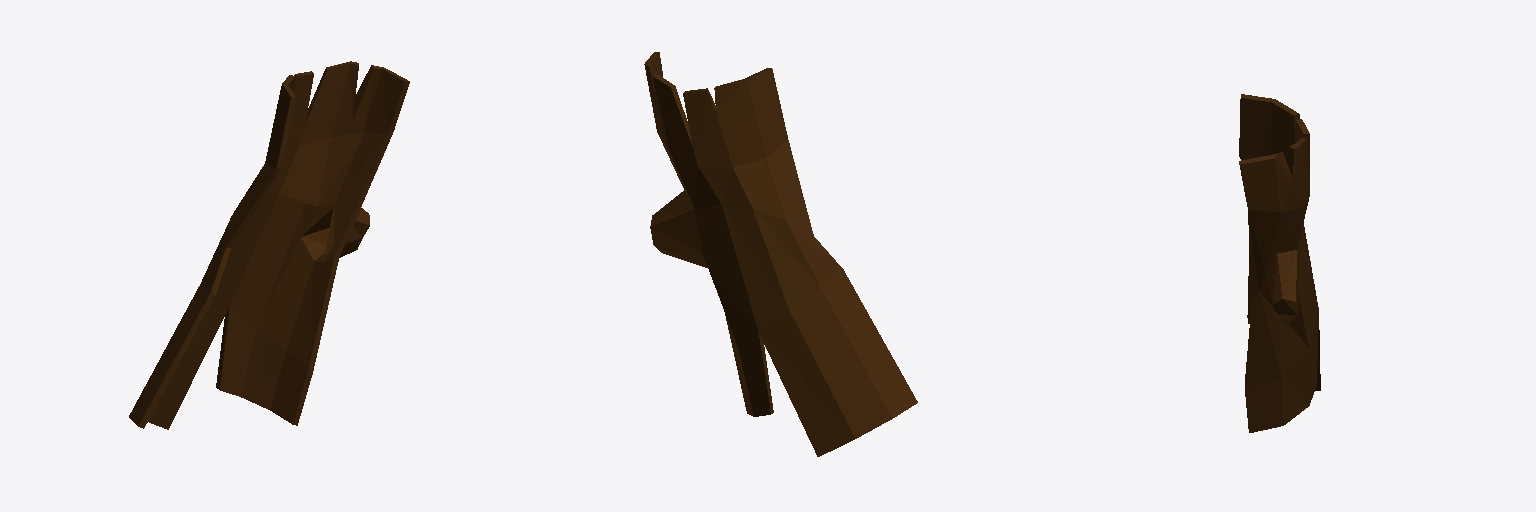
Rendered from TrunkBody.obj.
The picture shows the model from 3 angles: view 1: azimuth 30°, elevation 25°; view 2: azimuth 150°, elevation 25°; view 3: azimuth 270°, elevation 25°; orthographic projection.
Bounding box in the file's own units: 24.35 × 29.46 × 6.44.